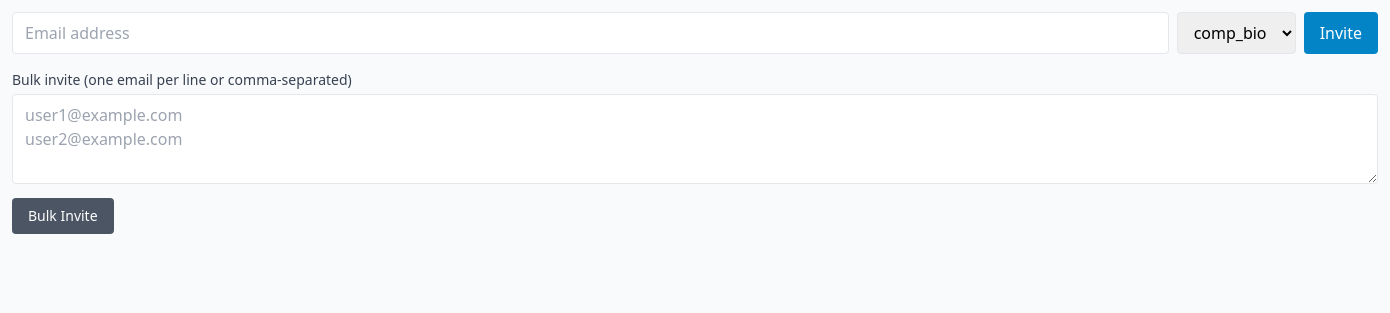
Test: InviteForm › shows error message on invite failure
Step 1. Type "exists@bioaf.org" into the field with placeholder "Email address" → coordinates (590, 33), box [12,12,1169,54]
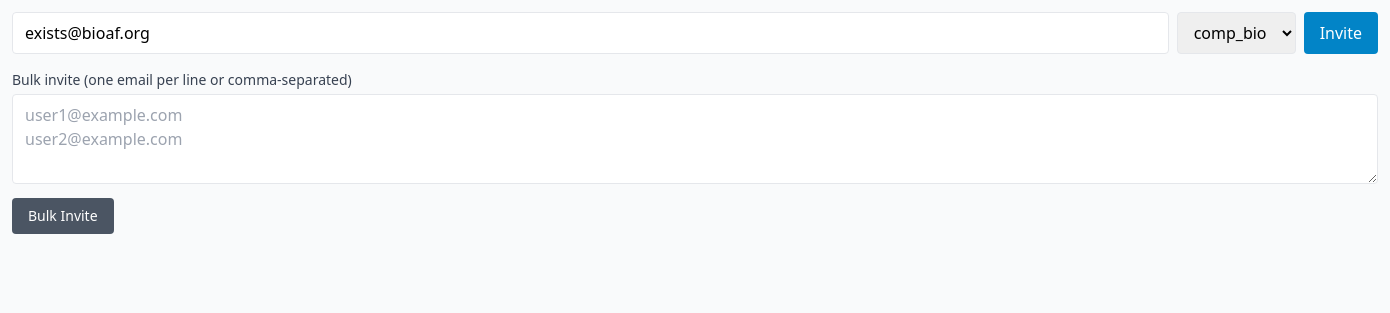
Step 2. Click the button "Invite" → coordinates (1341, 33), box [1304,12,1378,54]
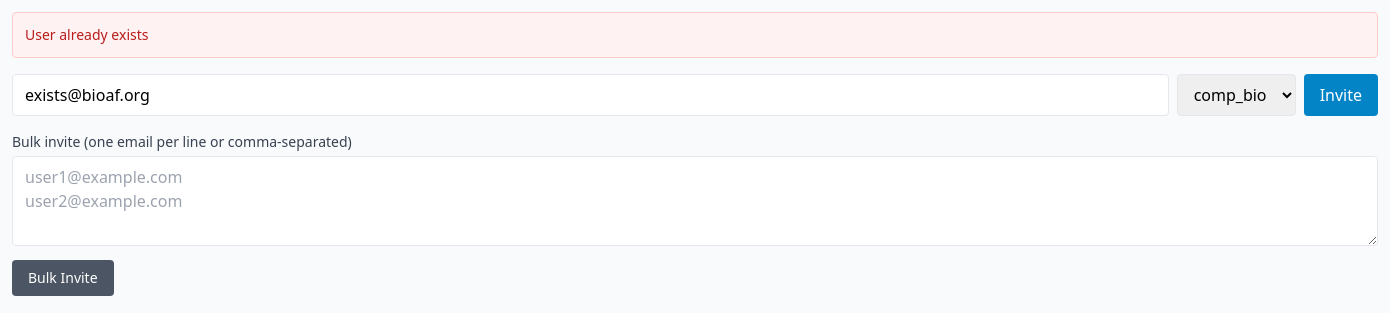
Expected: the text "User already exists" is shown, [12,12,1378,58]
